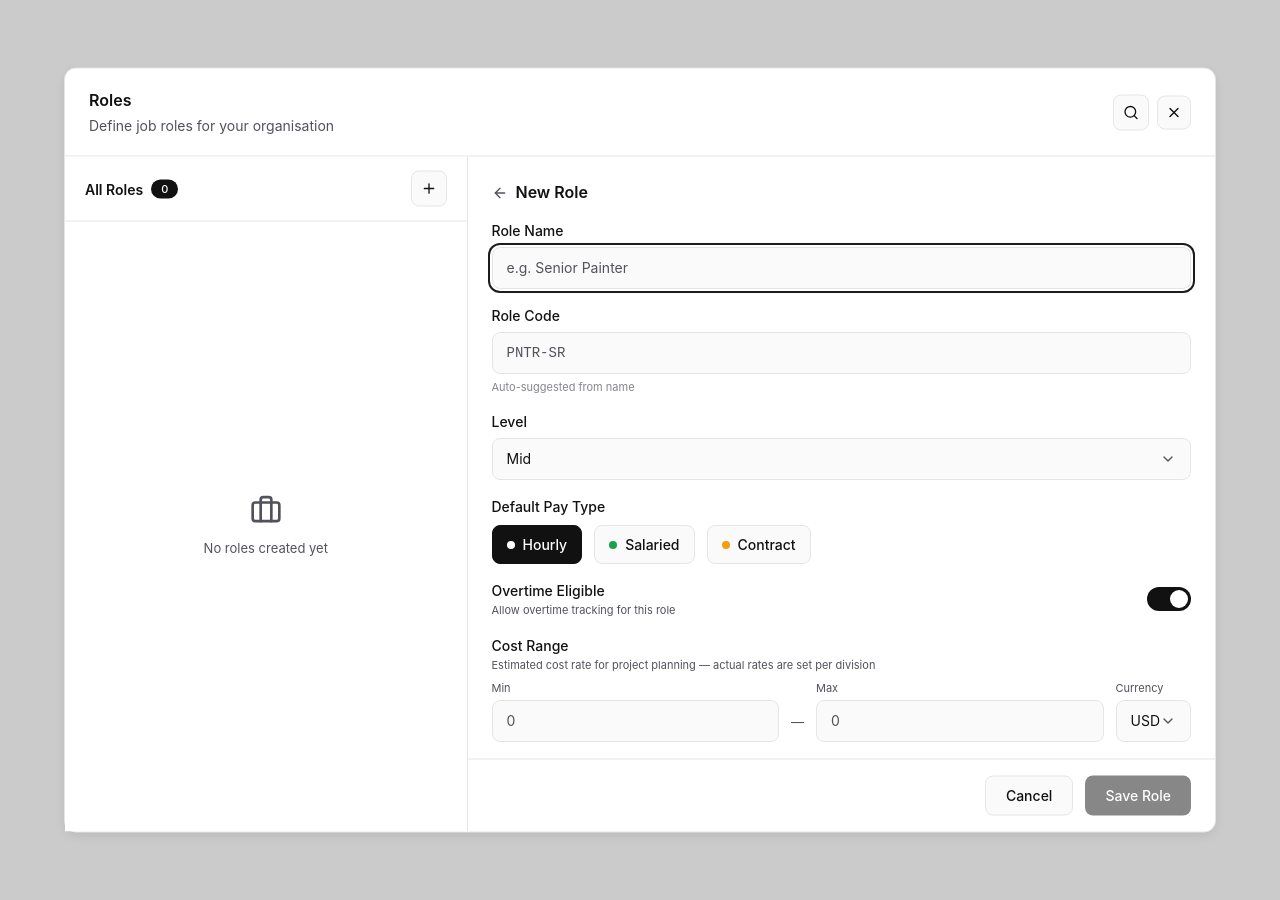
Scenario: RolesModal › auto-generates code when name is typed
The image size is (1280, 900).
Type "Senior Painter" into the field with test id "role-name-input" at (841, 267), box [492,246,1191,288]
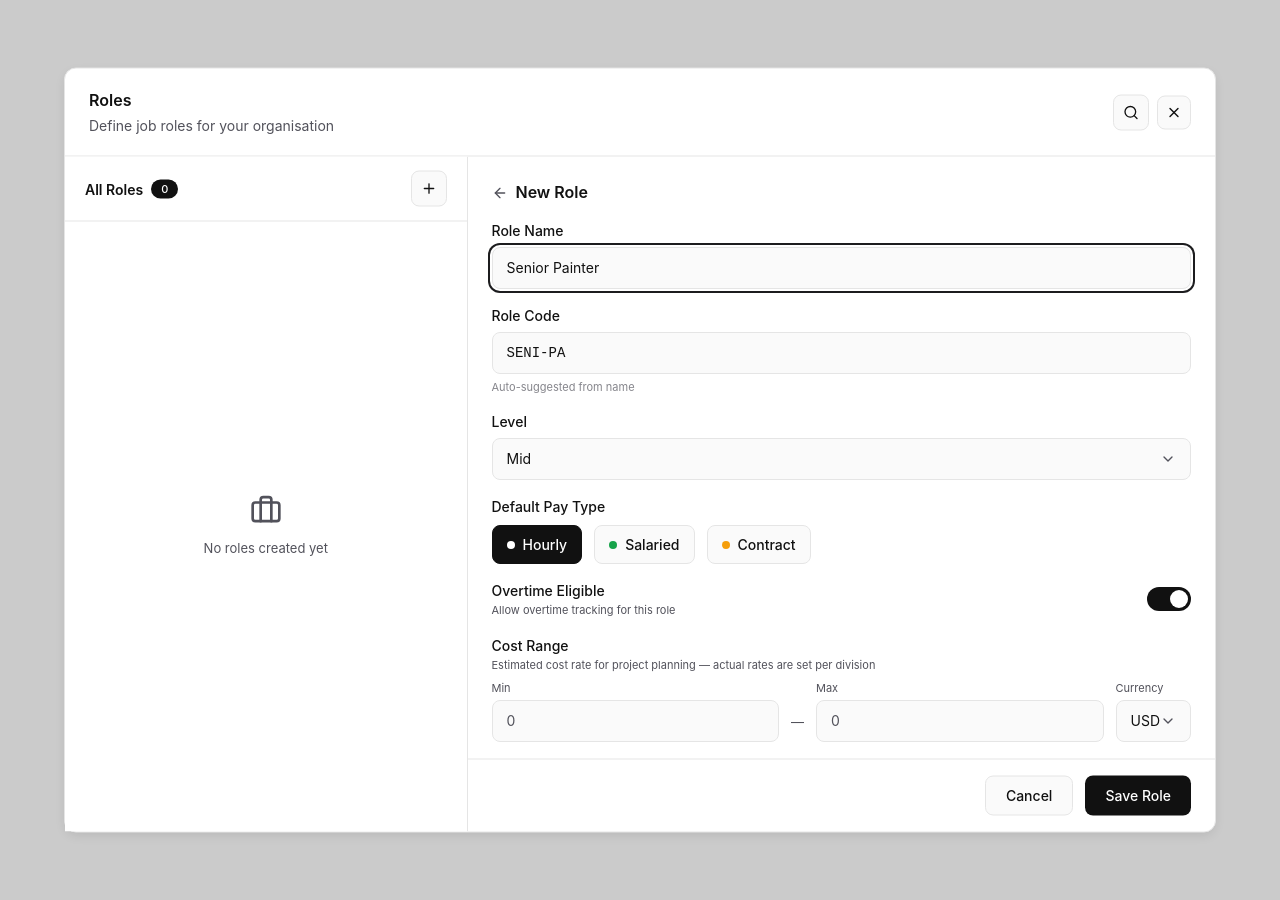
Check: the field with test id "role-code-input" holds "SENI-PA", box [492,331,1191,373]
